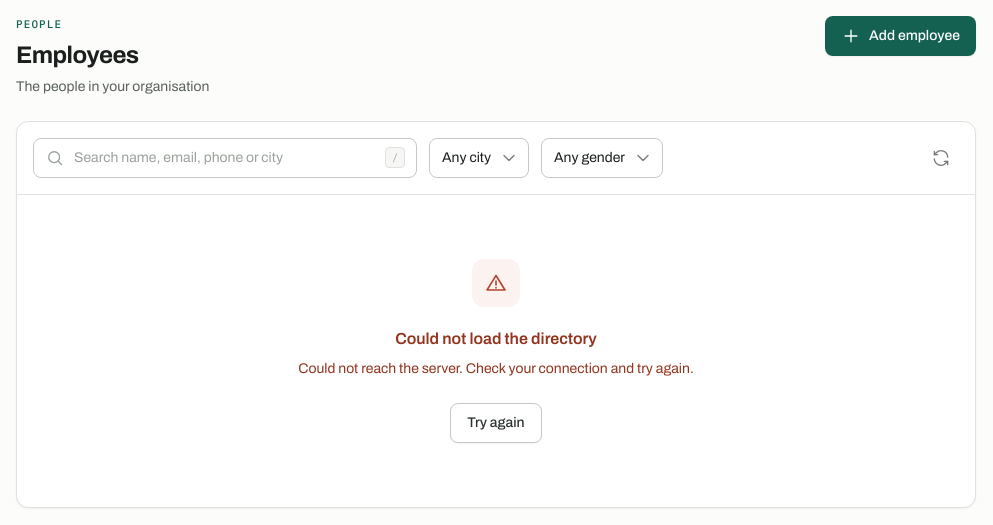
Test case: EmployeesPage — reading › reports a failed load and can retry it
Check: the heading "Employees" is shown, box [16, 42, 139, 68]
Check: the message shows "Could not reach the server", box [298, 360, 694, 376]
Click the button "Try again".
click(496, 422)  # box [450, 402, 542, 442]
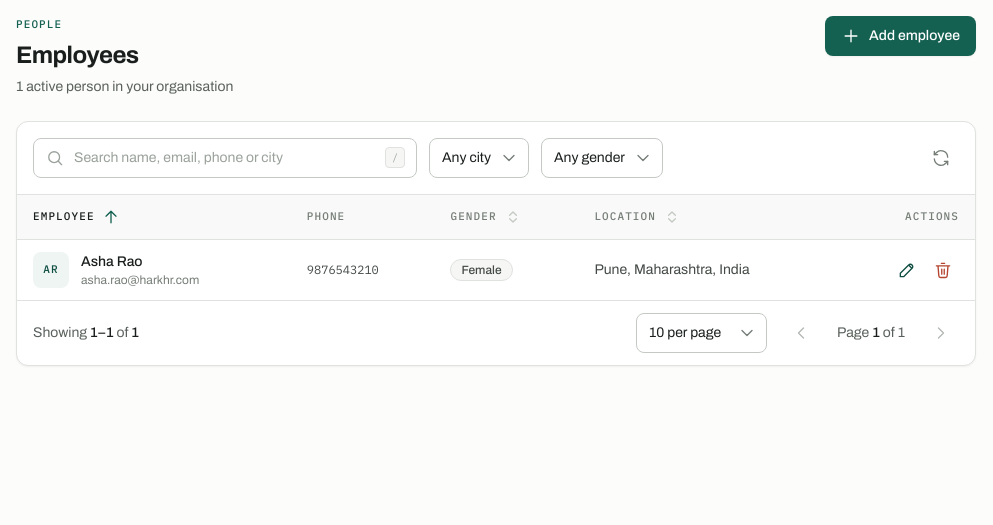
Check: the button "Asha Rao" is shown, box [81, 252, 142, 272]
